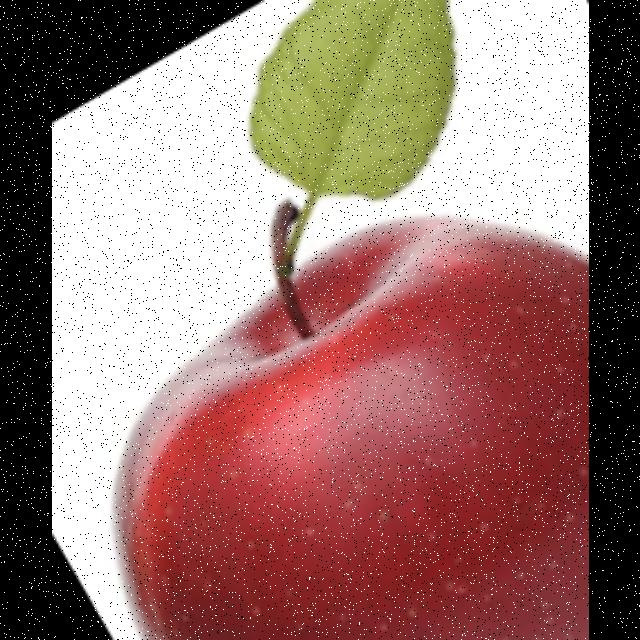Apel Segar: (109, 213, 588, 640)
